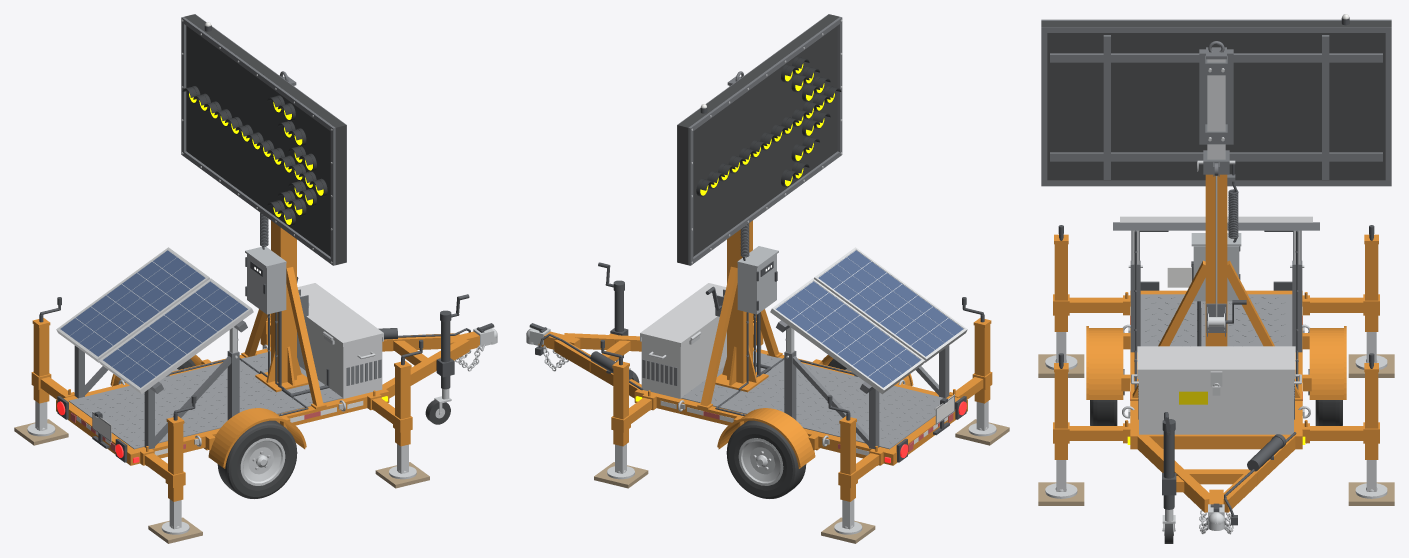
Rendered from Solar_Arrow_Board_Trailer.glb.
3 renders of one model, left to right at view 1: azimuth 30°, elevation 25°; view 2: azimuth 150°, elevation 25°; view 3: azimuth 270°, elevation 25°, orthographic. The views are drawn at different scales.
Parts seen in each view (by area): view 1: frame, sign_face, solar_cells, deck, solar_frame, leaf_spring, axle, rim_L, lamp_housings, tyre_L, controller, jack_pads (+4 smaller); view 2: frame, sign_face, solar_cells, deck, solar_frame, leaf_spring, axle, lamp_housings, rim_L, tyre_L, controller, jack_pads (+4 smaller); view 3: sign_face, frame, leaf_spring, solar_frame, deck, rim_L, axle, jack_pads, tyre_L, tie_downs, controller, photocell_dome.
Boxes of the visible parts, bbox=[...] form: frame: bbox=[31, 220, 479, 501]; sign_face: bbox=[184, 14, 346, 264]; solar_cells: bbox=[60, 250, 247, 387]; deck: bbox=[69, 351, 342, 449]; solar_frame: bbox=[56, 247, 383, 398]; leaf_spring: bbox=[74, 14, 381, 449]; axle: bbox=[39, 25, 494, 462]; rim_L: bbox=[27, 85, 497, 534]; lamp_housings: bbox=[182, 86, 327, 225]; tyre_L: bbox=[177, 358, 450, 498]; controller: bbox=[245, 246, 286, 314]; jack_pads: bbox=[14, 419, 429, 543]; frame: bbox=[538, 220, 992, 501]; sign_face: bbox=[677, 14, 839, 264]; solar_cells: bbox=[776, 250, 963, 387]; deck: bbox=[681, 351, 942, 449]; solar_frame: bbox=[640, 247, 967, 398]; leaf_spring: bbox=[642, 14, 954, 449]; axle: bbox=[529, 107, 984, 462]; lamp_housings: bbox=[696, 56, 841, 196]; rim_L: bbox=[526, 85, 996, 534]; tyre_L: bbox=[630, 359, 846, 498]; controller: bbox=[737, 246, 778, 314]; jack_pads: bbox=[594, 419, 1009, 543]; sign_face: bbox=[1041, 21, 1391, 180]; frame: bbox=[1053, 174, 1379, 512]; leaf_spring: bbox=[1041, 19, 1391, 419]; solar_frame: bbox=[1120, 216, 1312, 434]; deck: bbox=[1140, 294, 1292, 346]; rim_L: bbox=[1045, 59, 1387, 535]; axle: bbox=[1058, 17, 1374, 525]; jack_pads: bbox=[1038, 354, 1394, 505]; tyre_L: bbox=[1090, 400, 1342, 543]; tie_downs: bbox=[1122, 68, 1310, 534]; controller: bbox=[1191, 233, 1241, 301]; photocell_dome: bbox=[1130, 14, 1349, 422].
Size of the model in its own units: 76.12 by 67.92 by 49.6.
